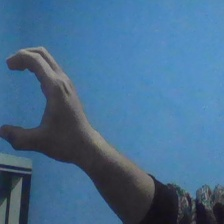C: (1, 45, 95, 154)
